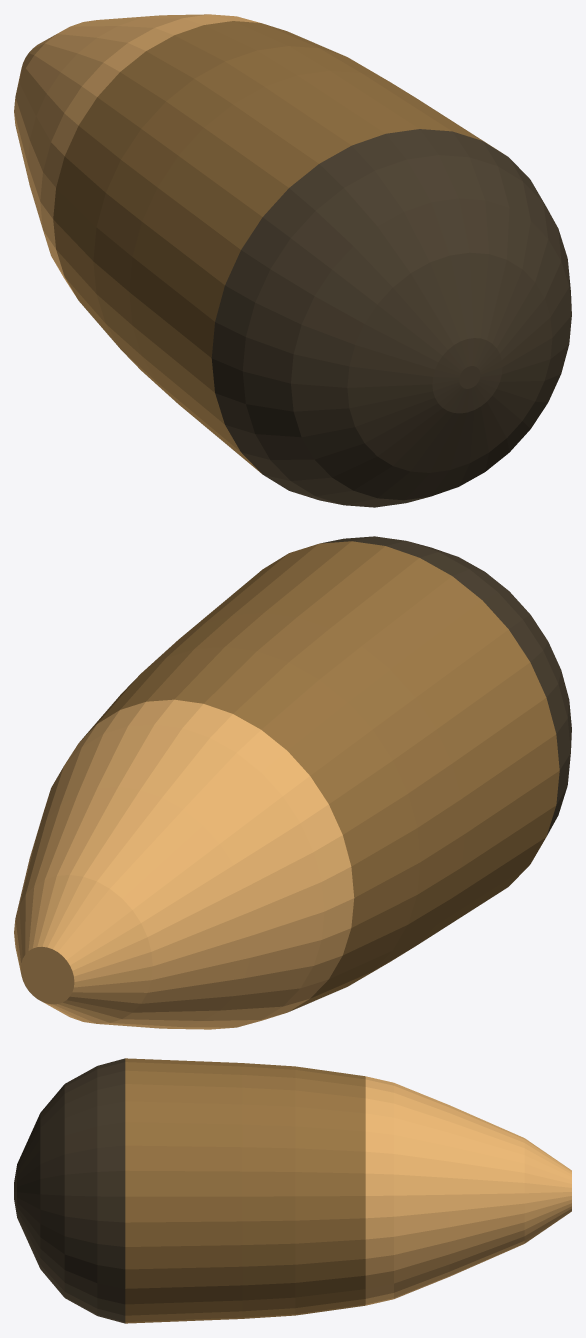
File: all_bullet.fbx
3 renders of one model, top to bottom at view 1: azimuth 30°, elevation 25°; view 2: azimuth 150°, elevation 25°; view 3: azimuth 270°, elevation 25°, orthographic. The views are drawn at different scales.
Visible parts, largest first — view 1: Circle.001, Circle, Circle.002; view 2: Circle, Circle.002, Circle.001; view 3: Circle, Circle.002, Circle.001.
Part boxes in pixels (x1=…): Circle.001: x1=211, y1=129, x2=571, y2=507; Circle: x1=53, y1=21, x2=501, y2=474; Circle.002: x1=14, y1=14, x2=259, y2=297; Circle: x1=80, y1=541, x2=559, y2=1011; Circle.002: x1=14, y1=699, x2=354, y2=1029; Circle.001: x1=320, y1=536, x2=571, y2=835; Circle: x1=125, y1=1058, x2=365, y2=1323; Circle.002: x1=365, y1=1076, x2=571, y2=1305; Circle.001: x1=14, y1=1058, x2=125, y2=1323.
Bounding box in the file's own units: 43.73 × 43.73 × 91.92.
